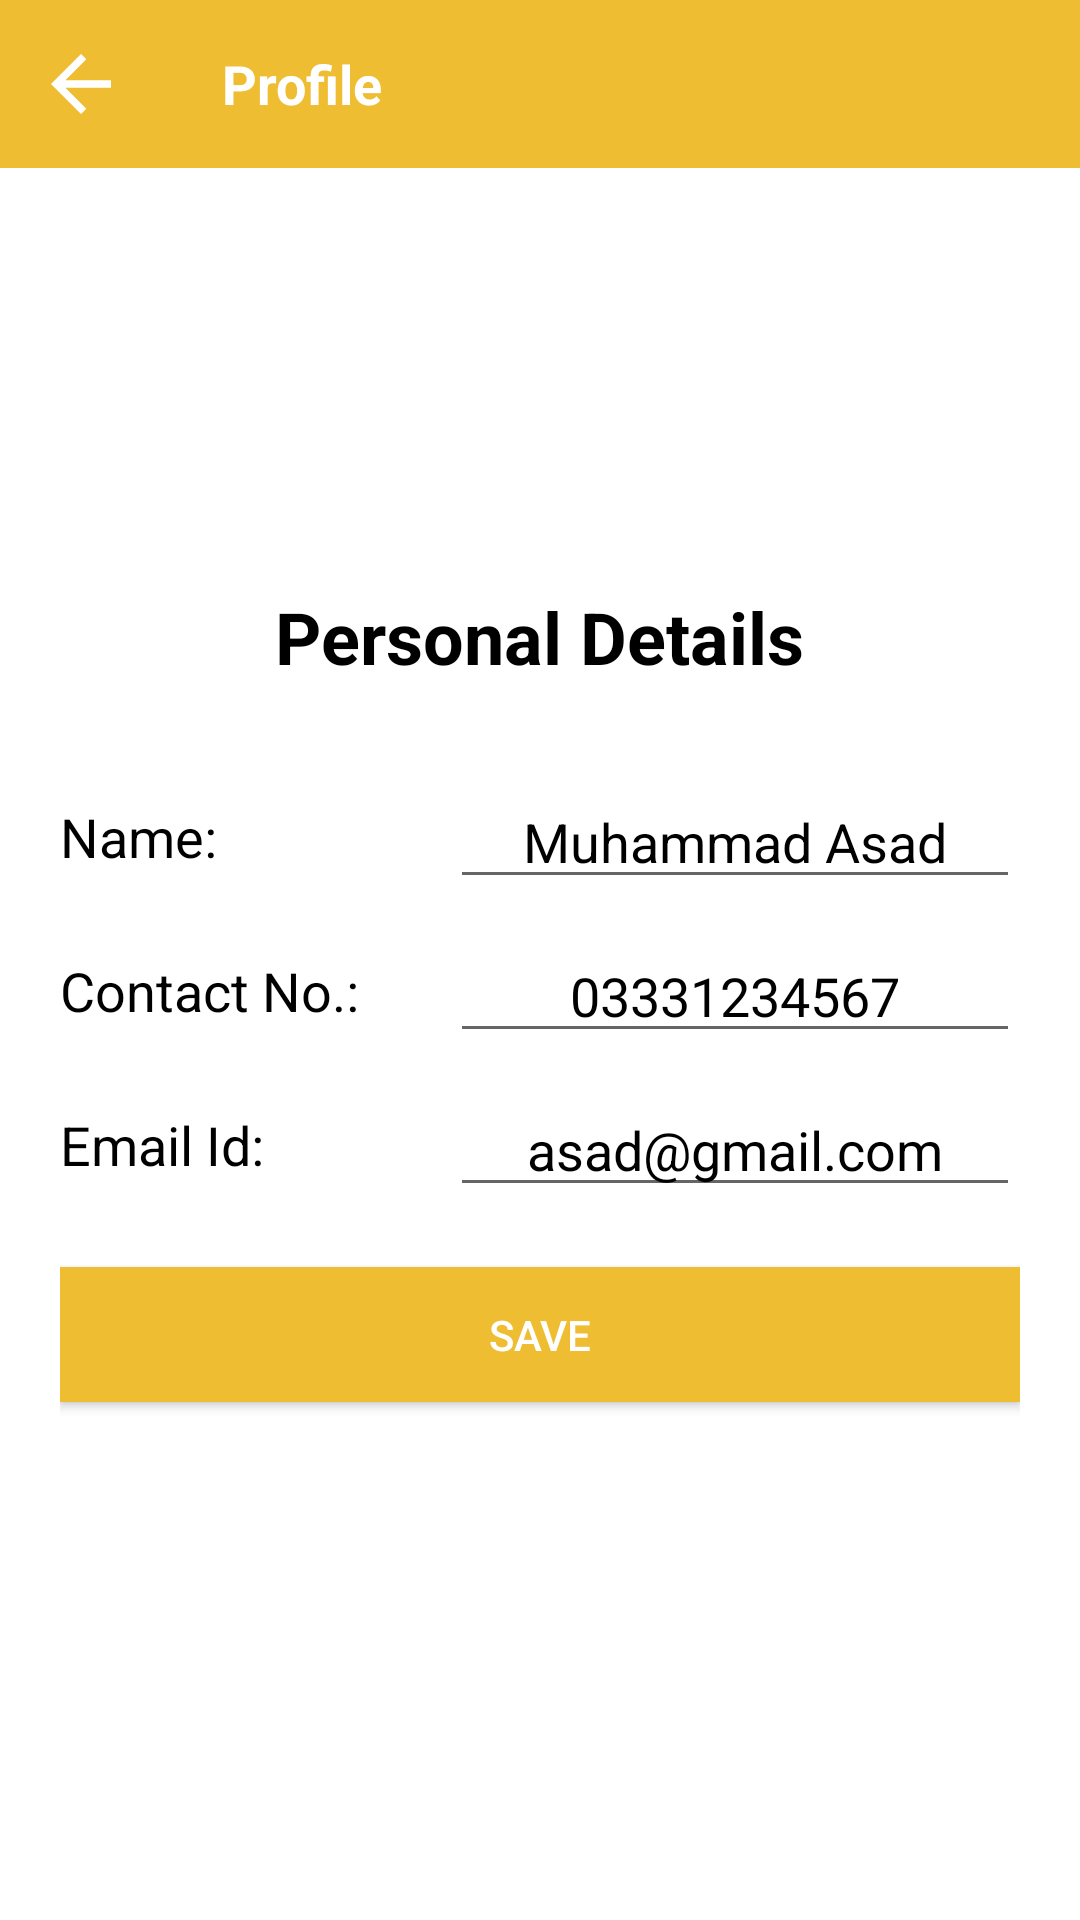

Named icons in this screenshot (1080px×1920px) and their bounding boxes, [x1,y1,x2,y2]:
arrow back: [51,54,111,114]
